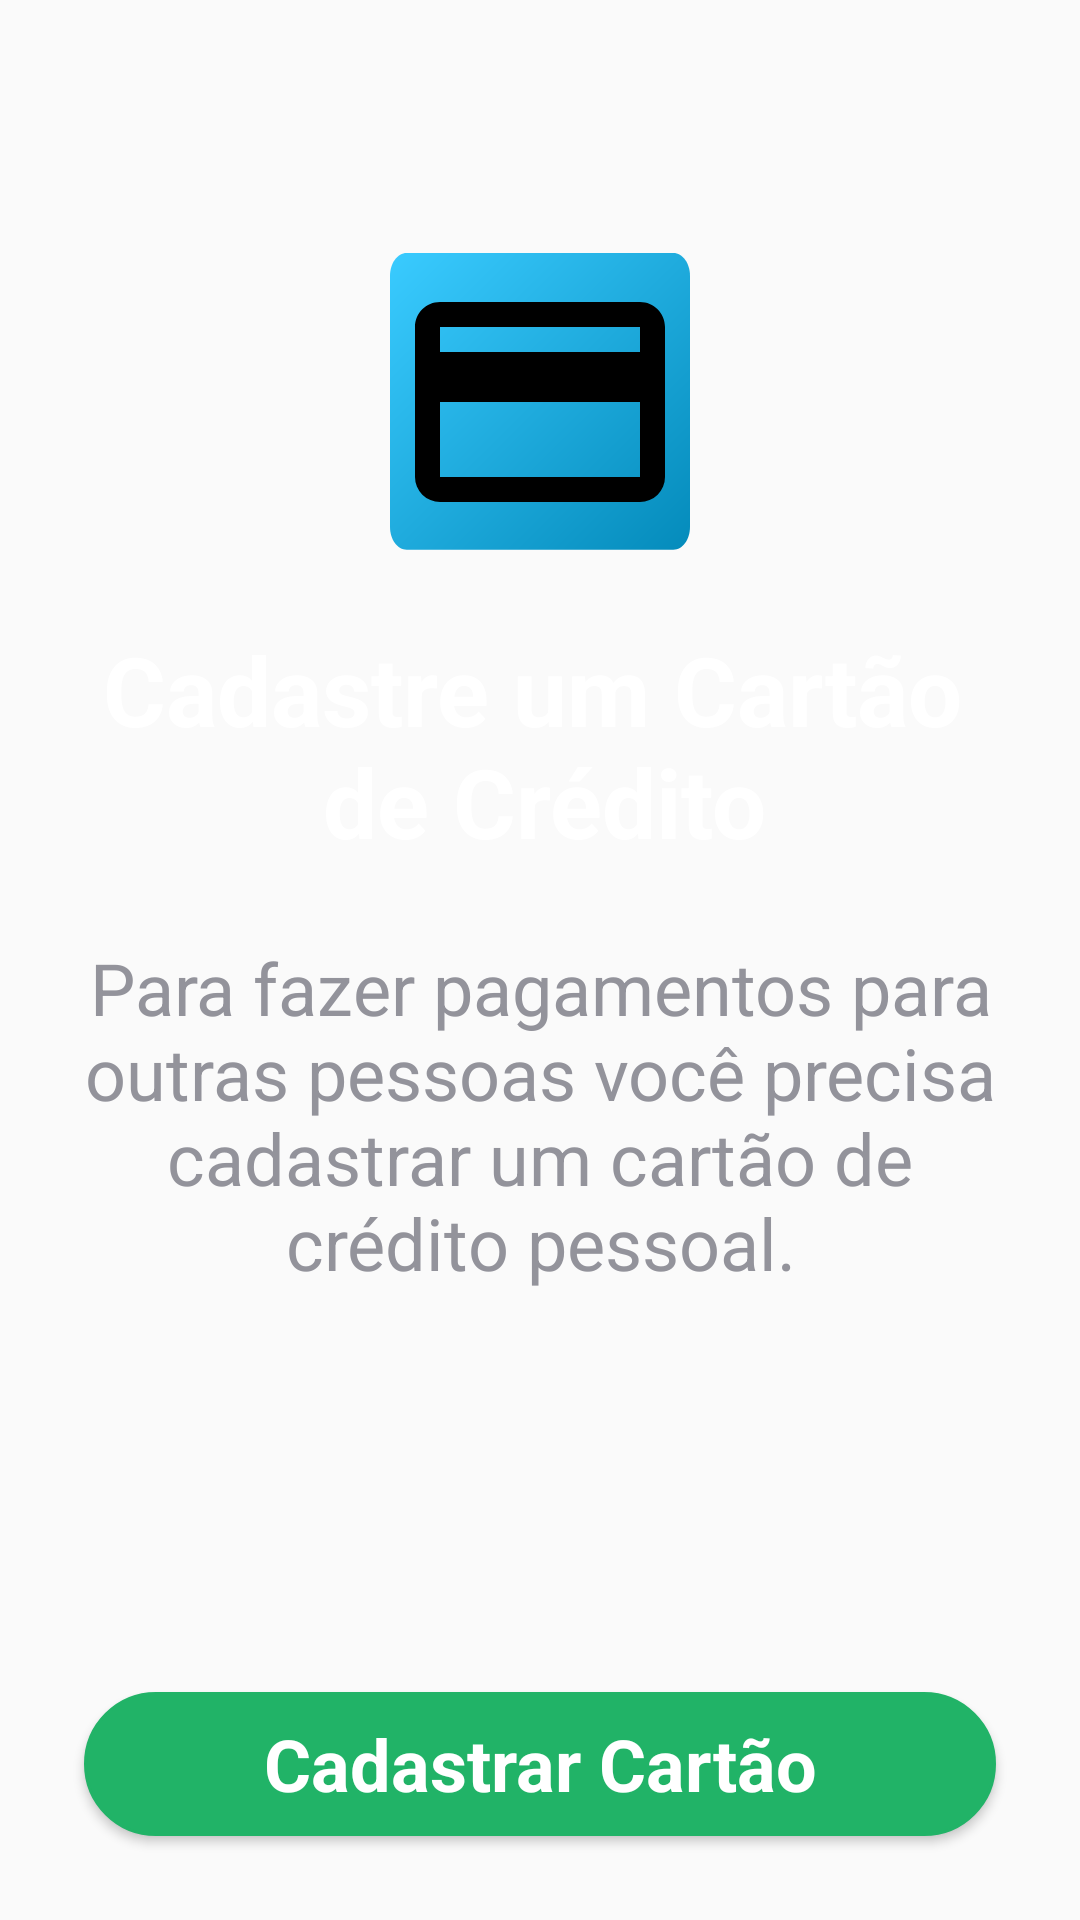

Where to tap for icons on this 1080px x 1920px app screen, as (x=x, y=y):
credit card: (x=540, y=401)
